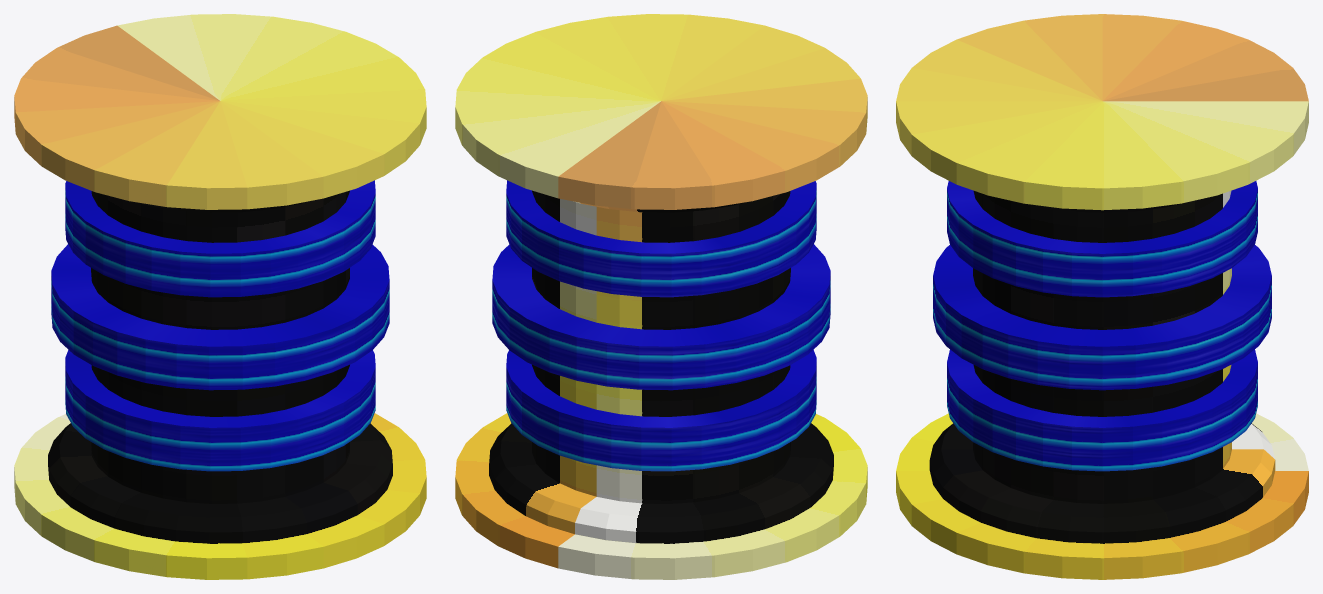
The model's file is temporal_connection_amplifier_single.obj.
3 renders of one model, left to right at view 1: azimuth 30°, elevation 25°; view 2: azimuth 150°, elevation 25°; view 3: azimuth 270°, elevation 25°, orthographic.
Visible parts, largest first — view 1: Cylinder.001; view 2: Cylinder.001; view 3: Cylinder.001.
Boxes of the visible parts, x1,y1,x2,y2 form: Cylinder.001: [14, 14, 426, 579]; Cylinder.001: [455, 14, 867, 579]; Cylinder.001: [896, 14, 1308, 579].
Size of the model in its own units: 0.9557 by 1 by 0.9557.
